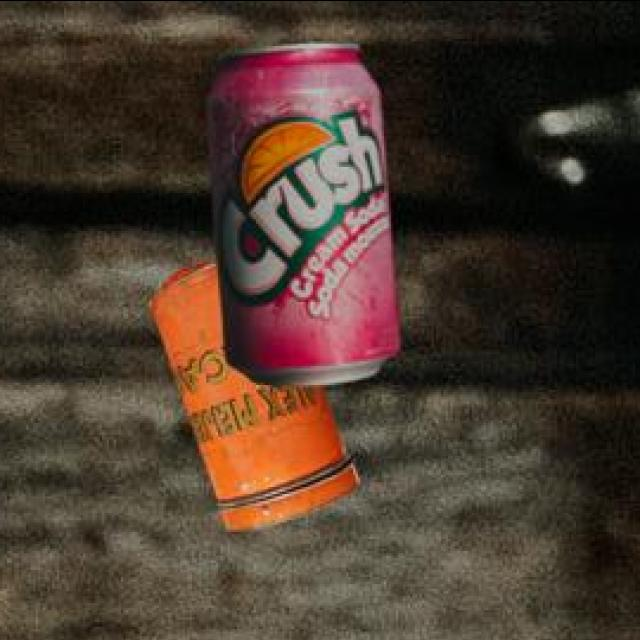logam: (210, 39, 404, 380), (153, 257, 361, 525), (165, 256, 222, 283)
